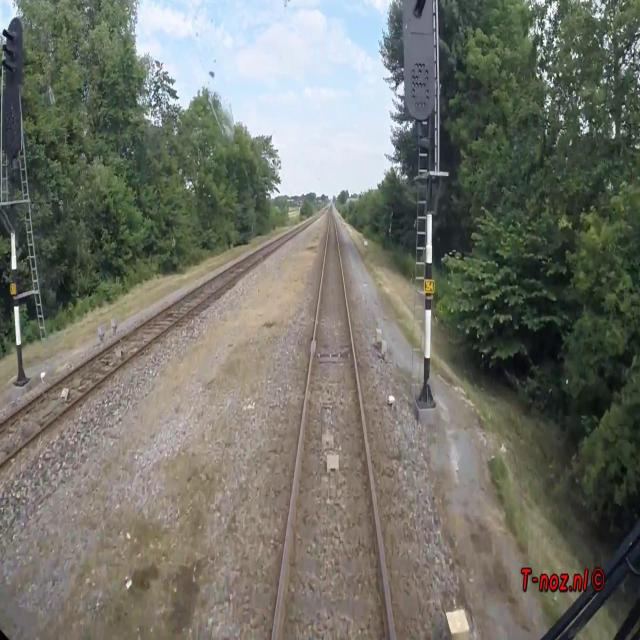rail-track: (0, 209, 326, 462), (276, 211, 390, 639)
